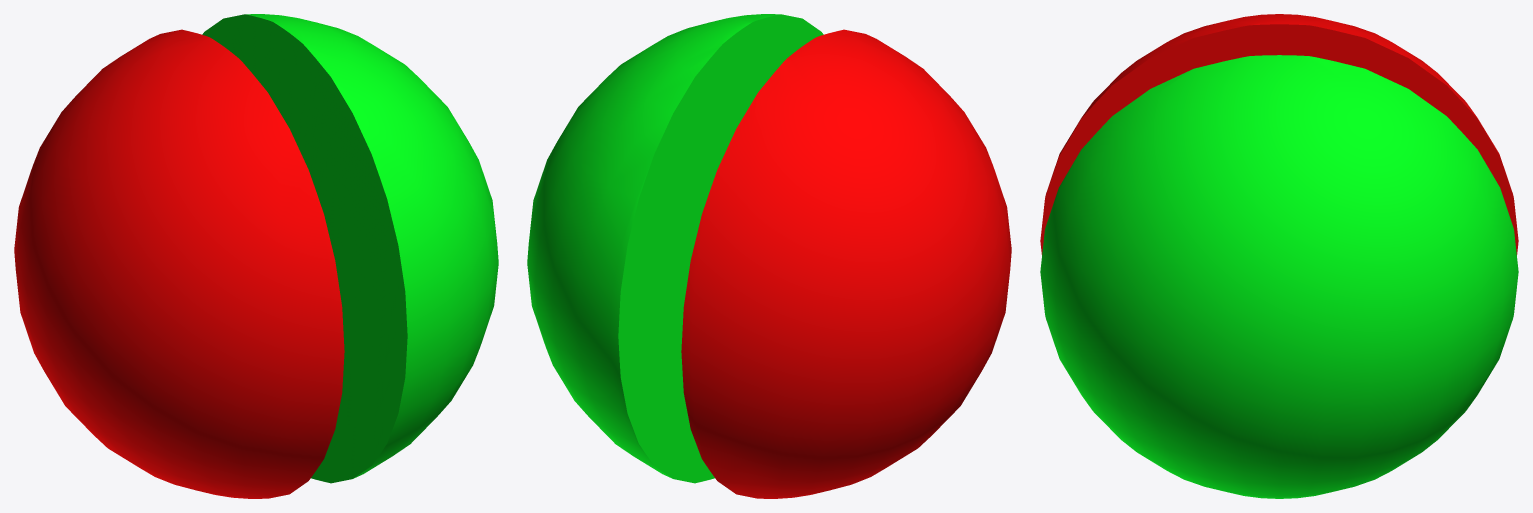
3 renders of one model, left to right at view 1: azimuth 30°, elevation 25°; view 2: azimuth 150°, elevation 25°; view 3: azimuth 270°, elevation 25°, orthographic.
Visible parts, largest first — view 1: Булев_1; view 2: Булев_1; view 3: Булев_1.
Part boxes in pixels (x1,y1,x2,y2): Булев_1: (14,14,498,498); Булев_1: (527,14,1011,498); Булев_1: (1040,14,1518,498).
Size of the model in its own units: 1 by 0.9852 by 0.9852.
